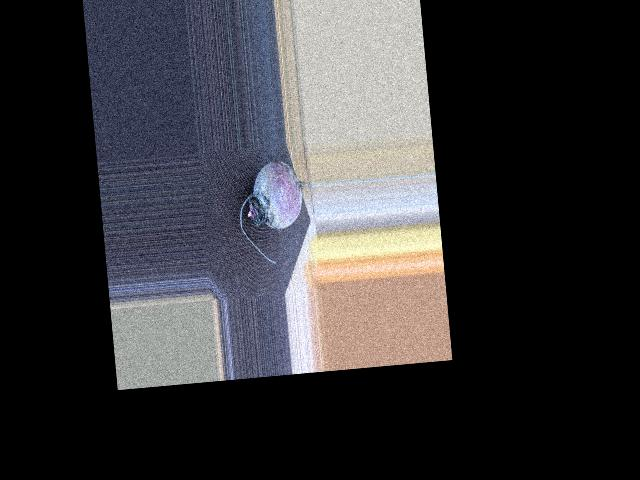beet: (234, 157, 319, 266)
